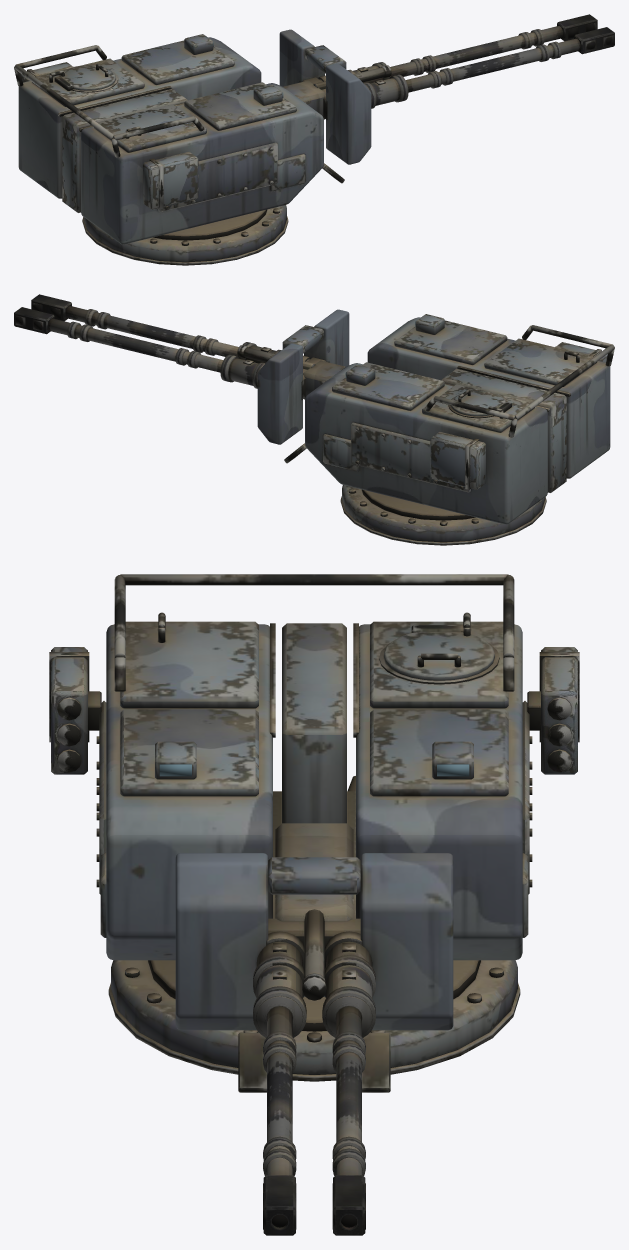
File: turret_kit_t2_sea_fog.glb
The picture shows the model from 3 angles, top to bottom: view 1: azimuth 30°, elevation 25°; view 2: azimuth 150°, elevation 25°; view 3: azimuth 270°, elevation 25°; orthographic projection. The views are drawn at different scales.
Visible parts, largest first — view 1: turret_twin_t2, guns, pods; view 2: turret_twin_t2, guns, pods; view 3: turret_twin_t2, guns, pods.
Boxes of the visible parts, x1,y1,x2,y2 form: turret_twin_t2: (14,29,371,265); guns: (283,14,614,119); pods: (21,62,198,209); turret_twin_t2: (257,309,614,545); guns: (14,294,345,399); pods: (430,342,607,489); turret_twin_t2: (96,574,532,1092); guns: (253,823,375,1235); pods: (49,647,579,774).
Size of the model in its own units: 2.7 by 0.722 by 1.15.
4 materials, 3 textured.
